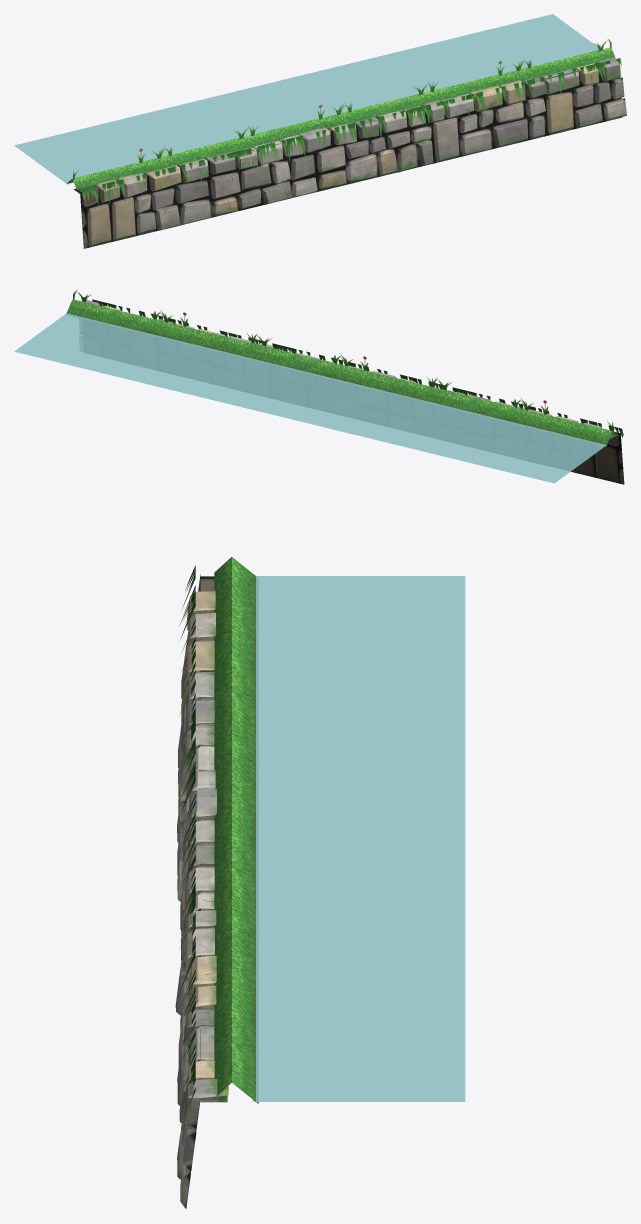
Rendered from terrace_straight_flooded_mid_plain.glb.
The picture shows the model from 3 angles, top to bottom: view 1: azimuth 30°, elevation 25°; view 2: azimuth 150°, elevation 25°; view 3: azimuth 270°, elevation 25°; orthographic projection. The views are drawn at different scales.
Visible parts, largest first — view 1: terrace_straight_flooded_mid_plain_wall, terrace_straight_flooded_mid_plain_water, terrace_straight_flooded_mid_plain_dike, terrace_straight_flooded_mid_plain_cards; view 2: terrace_straight_flooded_mid_plain_water, terrace_straight_flooded_mid_plain_dike, terrace_straight_flooded_mid_plain_wall, terrace_straight_flooded_mid_plain_cards; view 3: terrace_straight_flooded_mid_plain_water, terrace_straight_flooded_mid_plain_dike, terrace_straight_flooded_mid_plain_wall, terrace_straight_flooded_mid_plain_cards.
Boxes of the visible parts, x1,y1,x2,y2 form: terrace_straight_flooded_mid_plain_wall: (73,56,626,248); terrace_straight_flooded_mid_plain_water: (14,14,598,184); terrace_straight_flooded_mid_plain_dike: (66,47,615,189); terrace_straight_flooded_mid_plain_cards: (73,38,621,205); terrace_straight_flooded_mid_plain_water: (14,313,607,483); terrace_straight_flooded_mid_plain_dike: (66,299,616,446); terrace_straight_flooded_mid_plain_wall: (79,300,624,484); terrace_straight_flooded_mid_plain_cards: (73,290,623,438); terrace_straight_flooded_mid_plain_water: (252,576,465,1101); terrace_straight_flooded_mid_plain_dike: (214,557,258,1103); terrace_straight_flooded_mid_plain_wall: (175,574,228,1208); terrace_straight_flooded_mid_plain_cards: (179,565,195,1124).
Size of the model in its own units: 12.1 by 1.79 by 2.79.
Materials: 4 (3 with a texture image).
